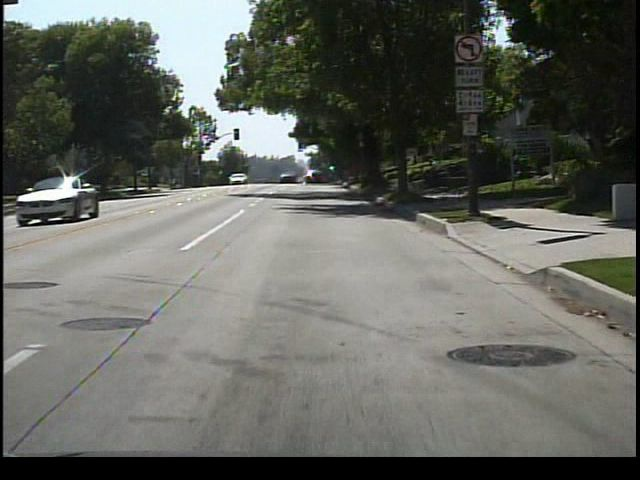person: (423, 154, 443, 191)
